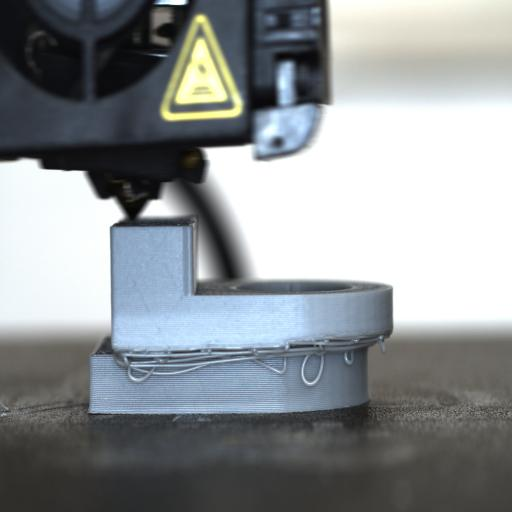layer_shift: (90, 328, 394, 369)
